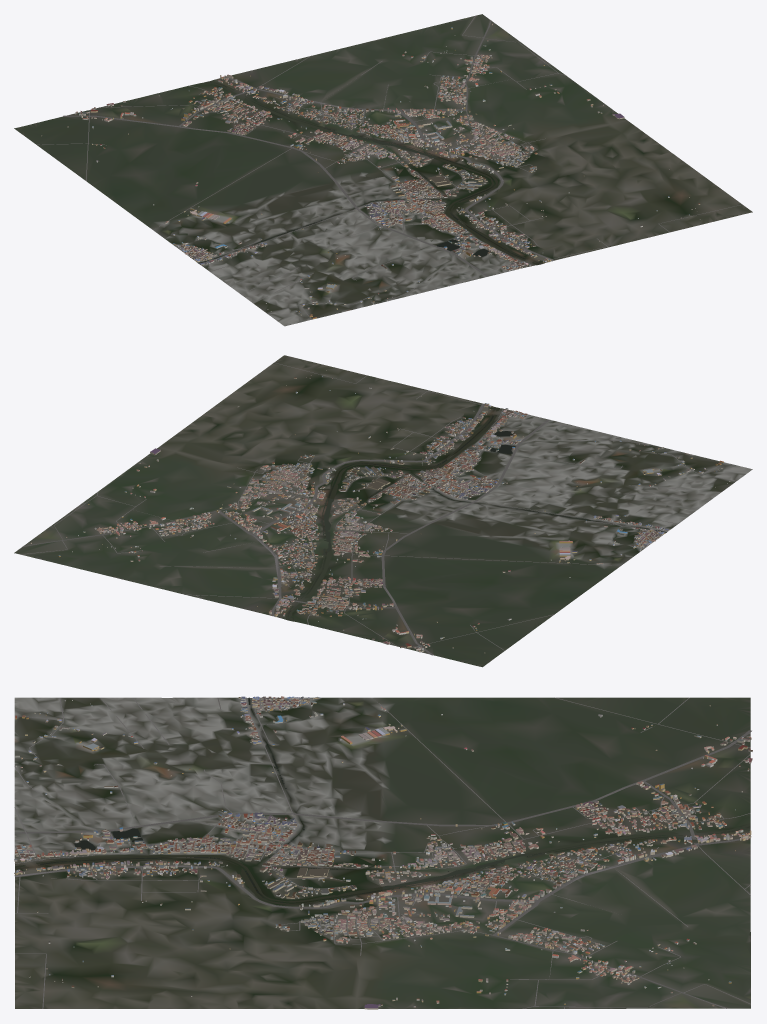
3 views of the same model, one above another, from view 1: azimuth 30°, elevation 25°; view 2: azimuth 150°, elevation 25°; view 3: azimuth 270°, elevation 25° (orthographic). The views are drawn at different scales.
Parts seen in each view (by area): view 1: ground, buildings, roads, water; view 2: ground, buildings, roads, water; view 3: ground, buildings, roads, water.
Part boxes in pixels (x1=…): ground: x1=14, y1=14, x2=752, y2=326; buildings: x1=41, y1=23, x2=700, y2=318; roads: x1=36, y1=15, x2=742, y2=319; water: x1=198, y1=81, x2=541, y2=264; ground: x1=14, y1=355, x2=752, y2=667; buildings: x1=30, y1=370, x2=730, y2=653; roads: x1=21, y1=362, x2=735, y2=655; water: x1=286, y1=407, x2=666, y2=621; ground: x1=14, y1=697, x2=750, y2=1008; buildings: x1=14, y1=696, x2=752, y2=1009; roads: x1=14, y1=697, x2=751, y2=1008; water: x1=15, y1=697, x2=750, y2=904.
Bounding box in the file's own units: 2814 × 31.45 × 2815.
